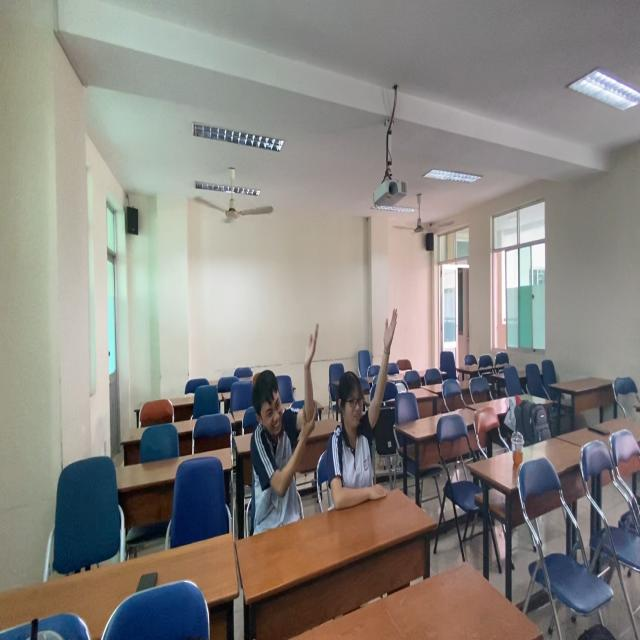raise_hand: (246, 323, 321, 536), (331, 304, 400, 512)
